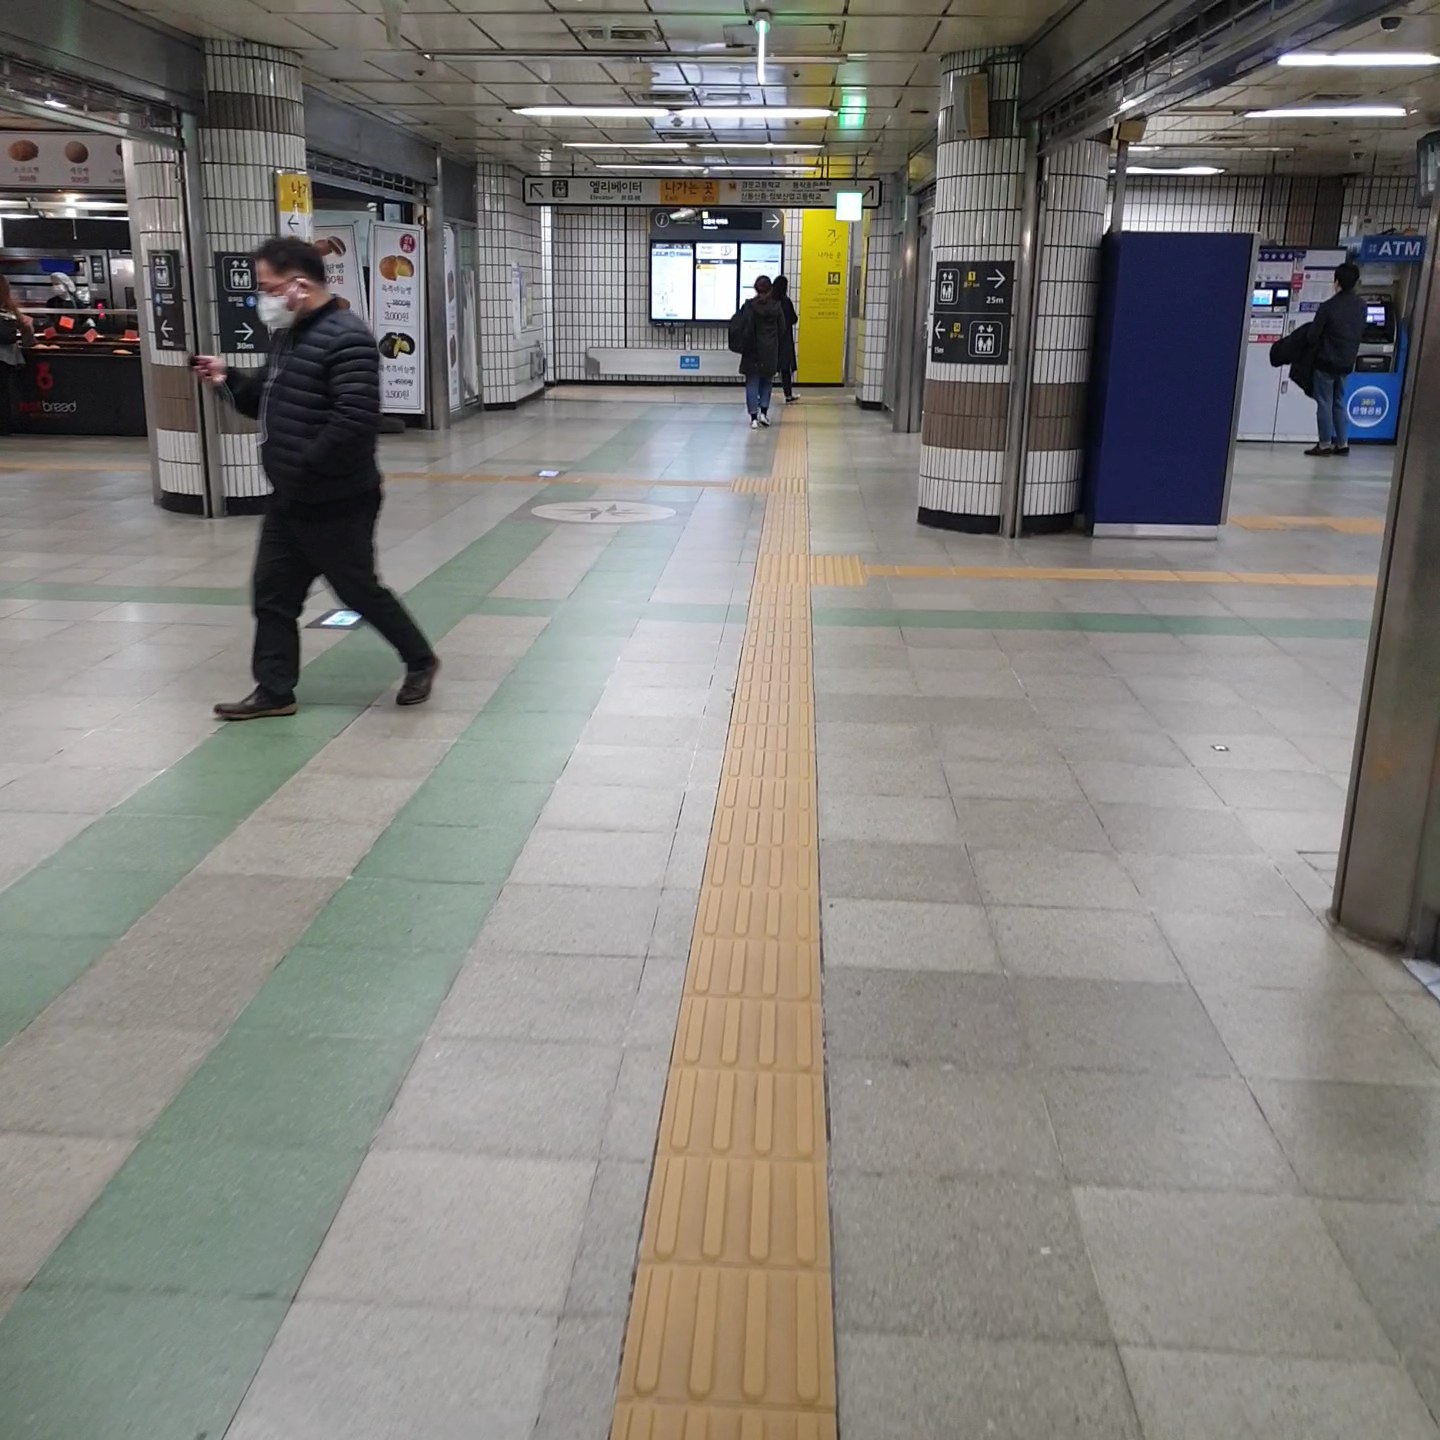line: (629, 1256, 847, 1415), (646, 1150, 843, 1272), (655, 1065, 828, 1160), (680, 990, 828, 1074), (685, 933, 832, 1002), (695, 886, 828, 939), (703, 841, 821, 892), (710, 802, 818, 844), (719, 769, 818, 806)
person: (206, 224, 438, 727), (731, 274, 791, 424), (765, 272, 806, 403)
